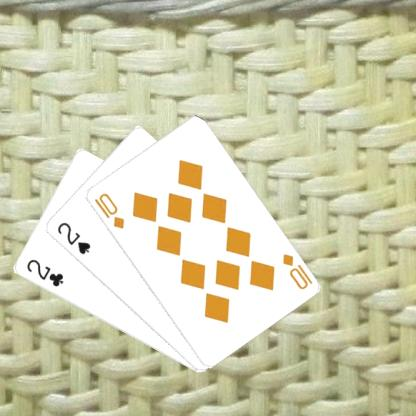10D: (91, 190, 126, 230), (279, 251, 314, 291)
2C: (23, 256, 64, 289)
2S: (54, 219, 92, 256)
